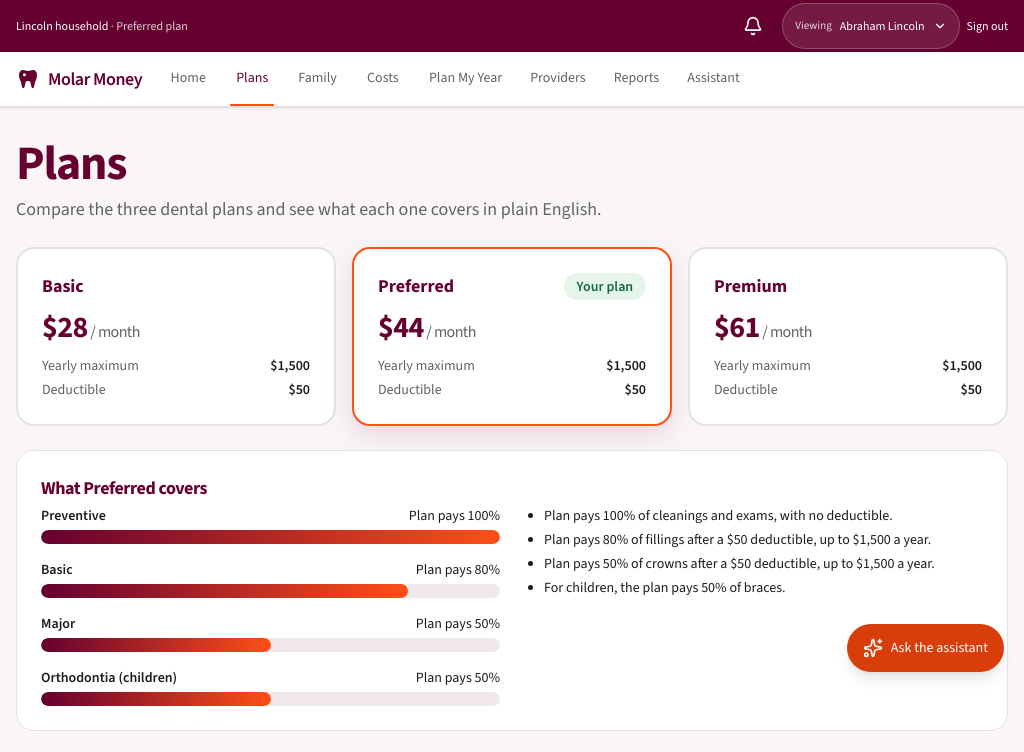
Test: SessionProvider › changePlan updates the plan name in the utility bar without a reload
Check: the text with test id "plan-label" shows "Preferred plan", box [108, 18, 188, 34]
Click the button with test id "tier-premium".
click(751, 286)  # box [688, 247, 1008, 426]
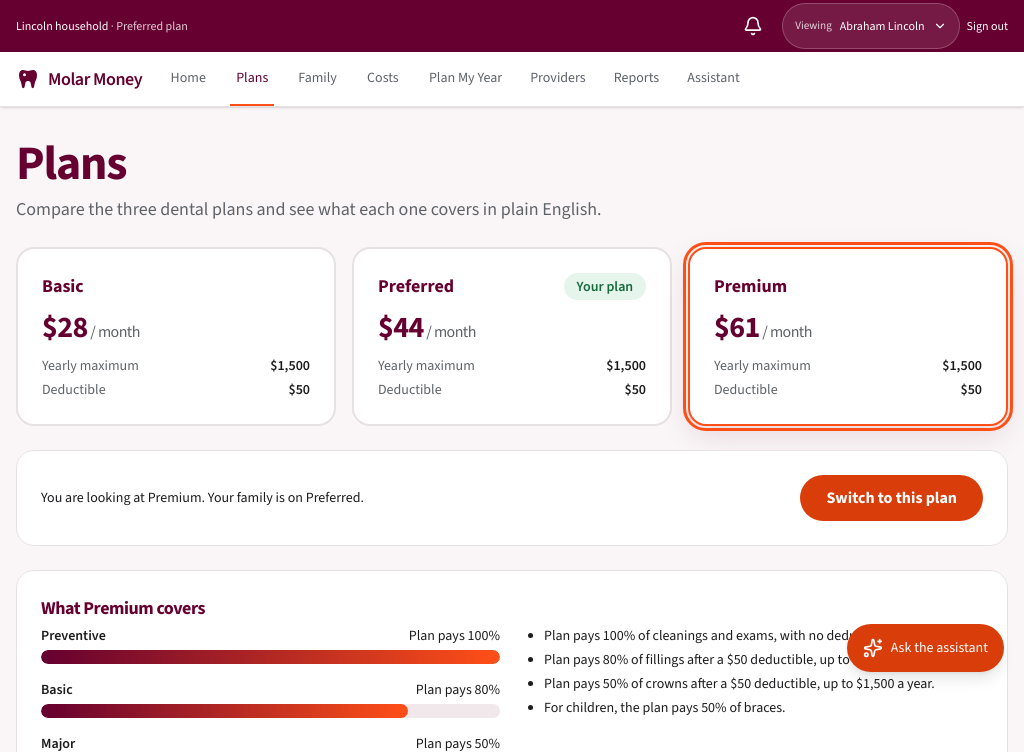
Click the button "Switch to this plan".
click(892, 498)  # box [800, 475, 983, 521]
(page scrolled)
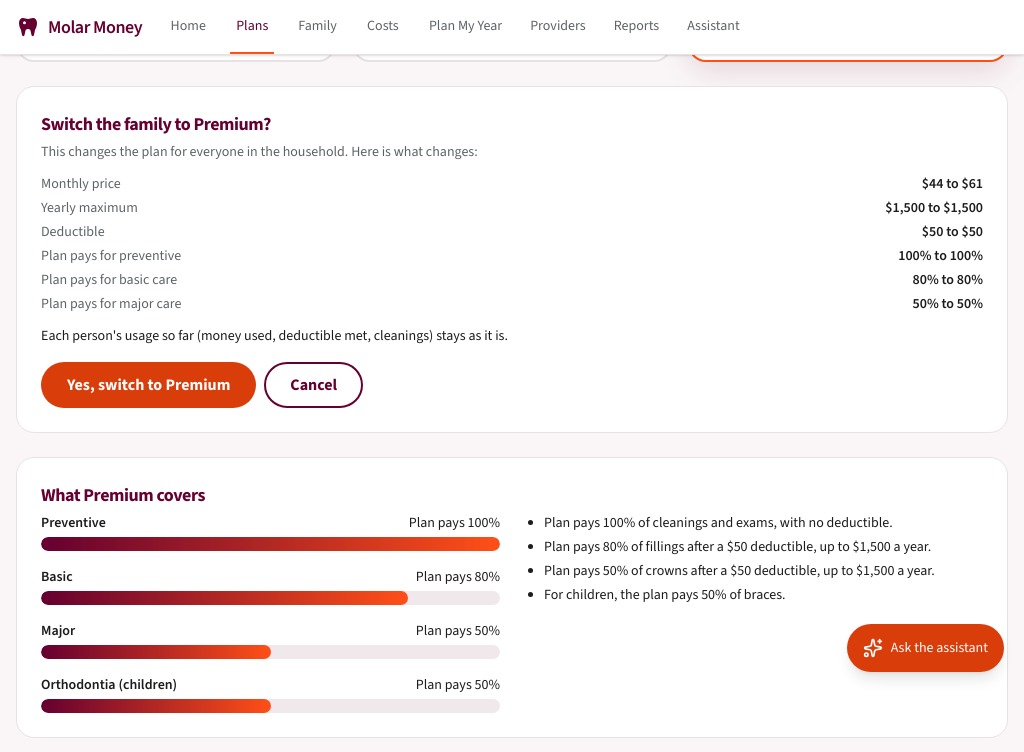
Click the button "Yes, switch to Premium".
click(149, 385)  # box [41, 362, 256, 408]
(page scrolled)
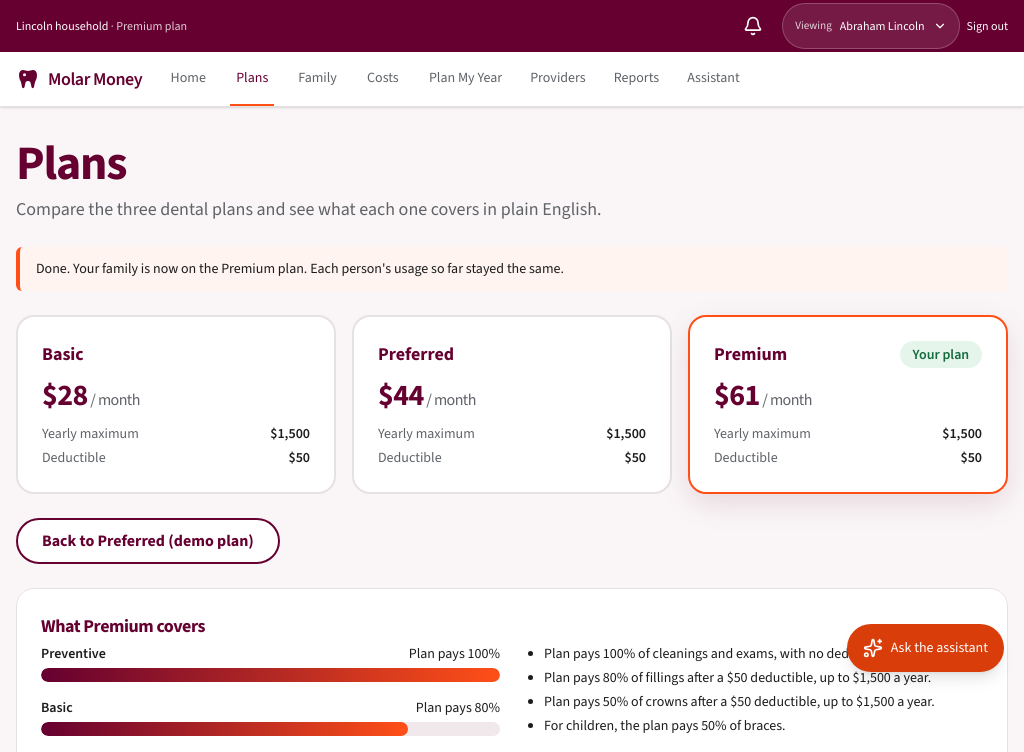
Check: the text with test id "plan-label" shows "Premium plan", box [108, 18, 187, 34]
